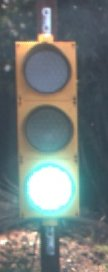Green: (4, 27, 108, 227)
